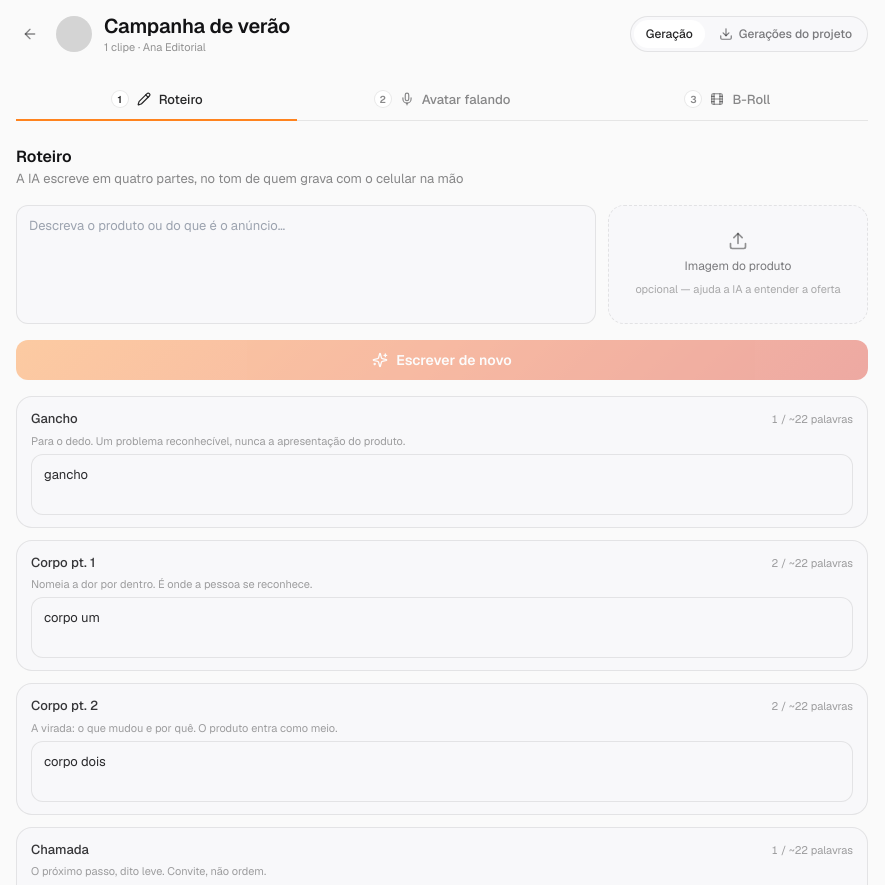
Scenario: UgcProjectPage › clipe que falhou continua na tela, com o erro e o retentar
Click the button "2 Avatar falando".
click(442, 100)  # box [301,80,583,121]
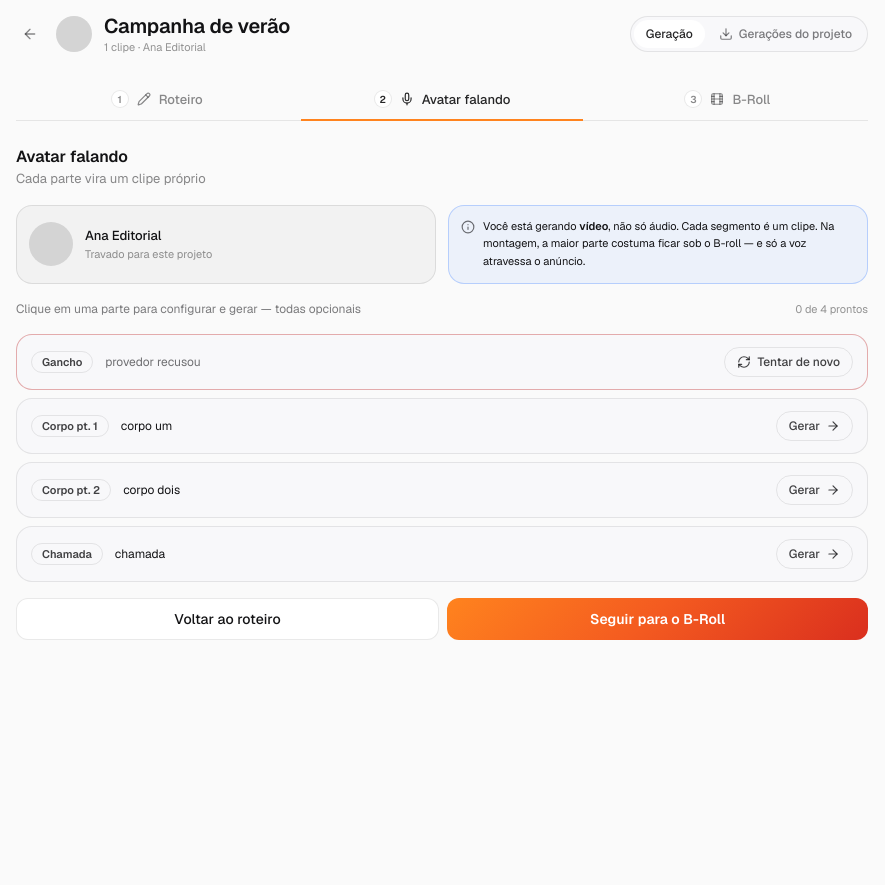
Expected: the text "provedor recusou" is shown, [105,354,201,370]
Expected: the button "Tentar de novo" is shown, [724,347,853,377]
